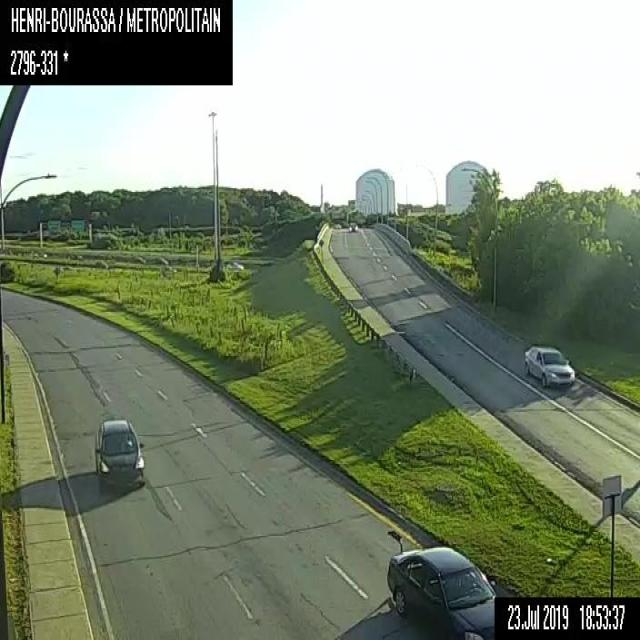vehicle: (386, 542, 494, 638), (92, 417, 144, 488), (522, 344, 574, 387), (226, 260, 243, 268), (348, 221, 358, 232)
